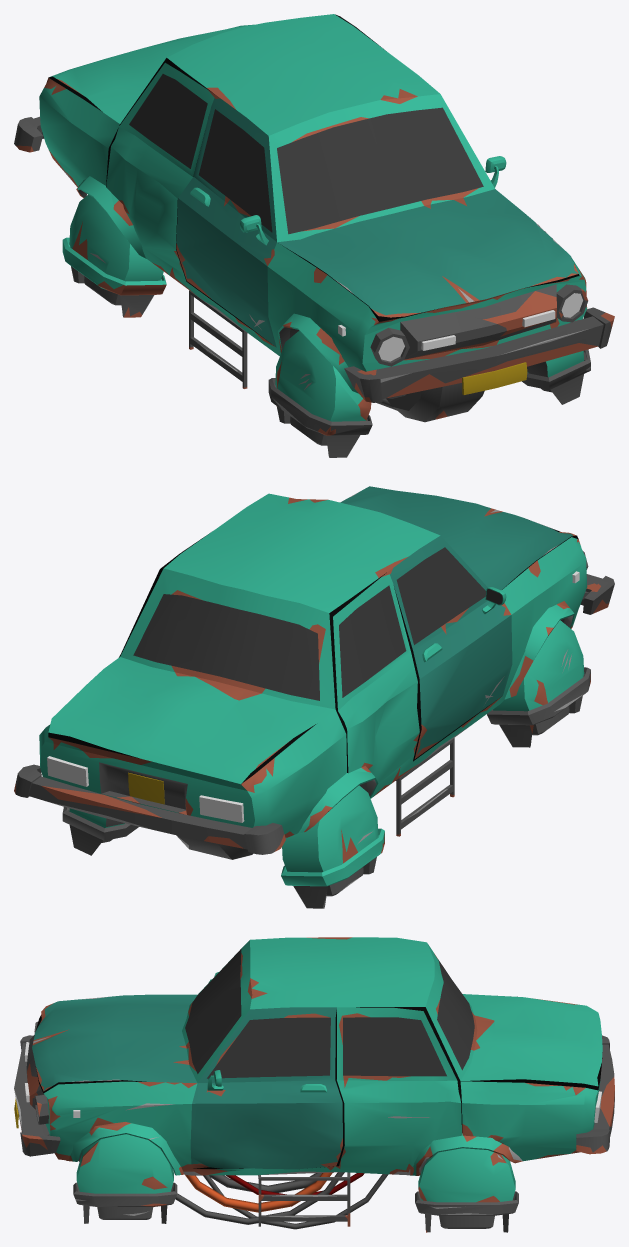
Rendered from RustyBagsCar_b.fbx.
The picture shows the model from 3 angles, top to bottom: view 1: azimuth 30°, elevation 25°; view 2: azimuth 150°, elevation 25°; view 3: azimuth 270°, elevation 25°; orthographic projection. The views are drawn at different scales.
Parts seen in each view (by area): view 1: carrozo, nozzle frente esq.001, nozzle traz esq.001, nozzle frente esq; view 2: carrozo, nozzle traz esq.001, nozzle frente esq.001, nozzle traz esq; view 3: carrozo, nozzle frente esq, nozzle traz esq, cabo004, cabo001, cabo, cabo003, cabo002.
Boxes of the visible parts, box(x1,y1,x2,y2) form: carrozo: box(14, 14, 614, 422); nozzle frente esq.001: box(268, 330, 372, 457); nozzle traz esq.001: box(62, 194, 166, 317); nozzle frente esq: box(522, 349, 590, 404); carrozo: box(14, 486, 614, 859); nozzle traz esq.001: box(281, 785, 384, 908); nozzle frente esq.001: box(487, 620, 590, 747); nozzle traz esq: box(62, 807, 138, 855); carrozo: box(14, 937, 614, 1226); nozzle frente esq: box(73, 1134, 177, 1223); nozzle traz esq: box(415, 1148, 518, 1232); cabo004: box(185, 1172, 332, 1212); cabo001: box(175, 1172, 344, 1224); cabo: box(203, 1174, 388, 1229); cabo003: box(209, 1172, 333, 1192); cabo002: box(226, 1173, 364, 1194).
Bounding box in the file's own units: 172 × 184 × 381.
